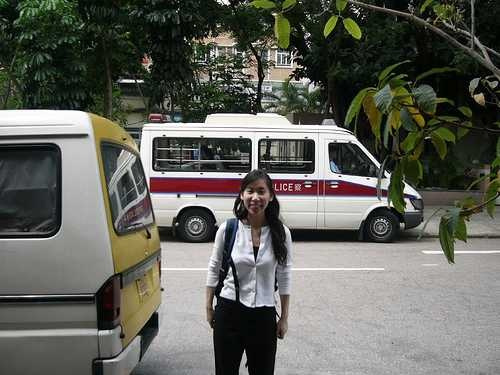Police Van: (138, 112, 428, 244)
